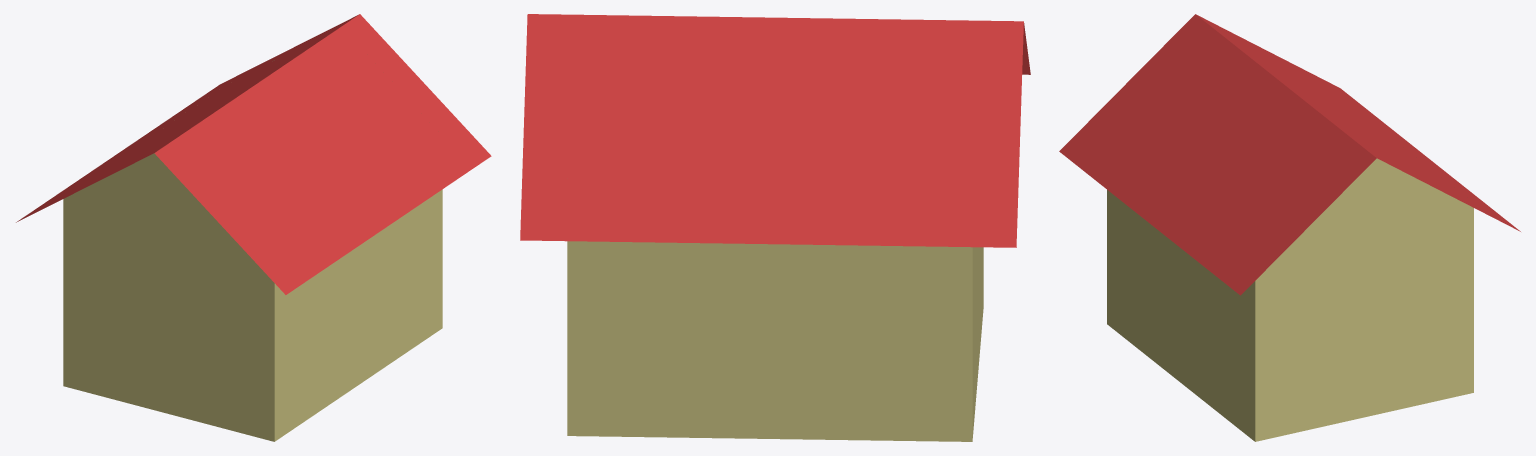
The picture shows the model from 3 angles, left to right: view 1: azimuth 30°, elevation 25°; view 2: azimuth 150°, elevation 25°; view 3: azimuth 270°, elevation 25°; orthographic projection. The views are drawn at different scales.
Size of the model in its own units: 13.82 by 13.03 by 8.49.
